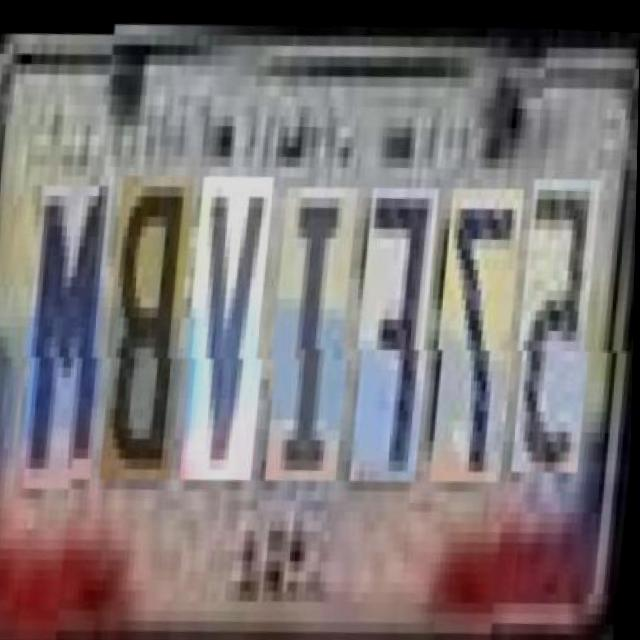5: (514, 179, 603, 479)
7: (435, 178, 528, 479)
b: (104, 166, 198, 477)
f: (355, 178, 442, 479)
i: (269, 178, 363, 478)
m: (24, 166, 118, 477)
v: (184, 166, 278, 477)
